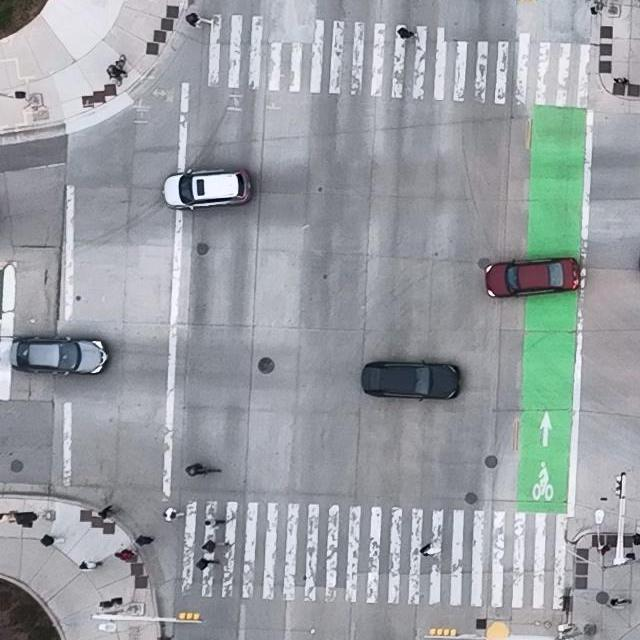car: (361, 358, 462, 403), (161, 166, 252, 212), (8, 335, 108, 376), (485, 257, 580, 299)
